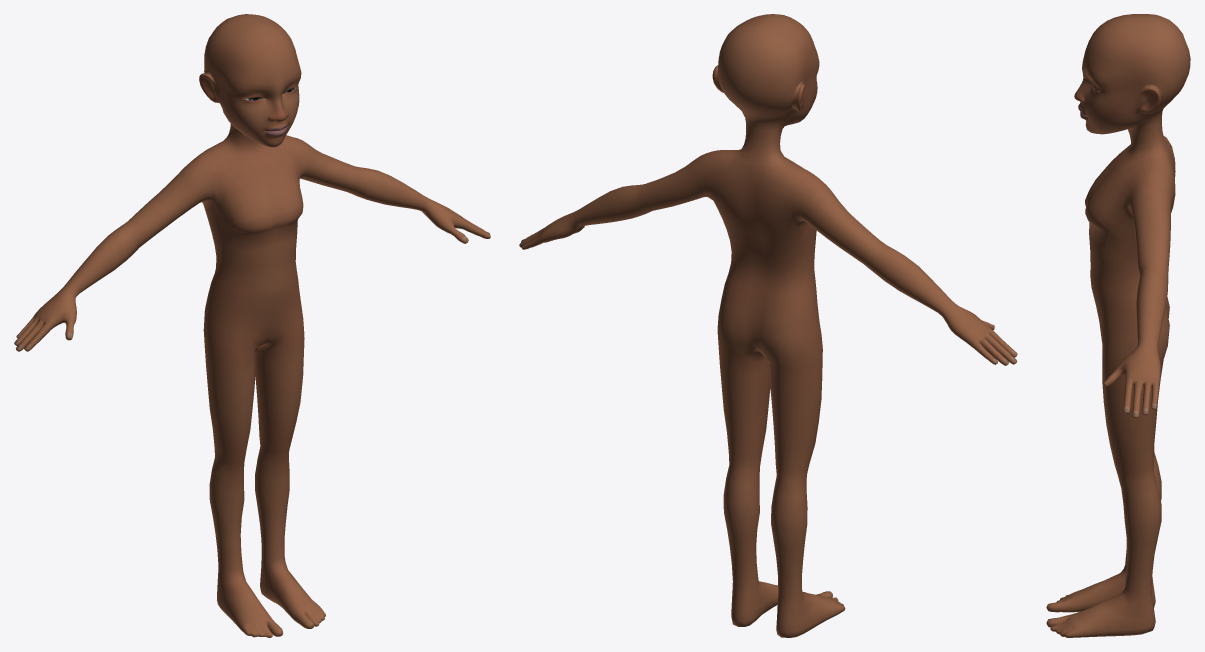
The model's file is frame_0060.glb.
3 renders of one model, left to right at view 1: azimuth 30°, elevation 25°; view 2: azimuth 150°, elevation 25°; view 3: azimuth 270°, elevation 25°, orthographic. The views are drawn at different scales.
Visible parts, largest first — view 1: frame_0060_head_geo; view 2: frame_0060_head_geo; view 3: frame_0060_head_geo.
Part boxes in pixels (x1,y1,x2,y2): frame_0060_head_geo: [14, 14, 490, 637]; frame_0060_head_geo: [519, 14, 1017, 637]; frame_0060_head_geo: [1046, 14, 1190, 637].
Size of the model in its own units: 1.28 by 1.5 by 0.3253.
Materials: 3 (3 with a texture image).
